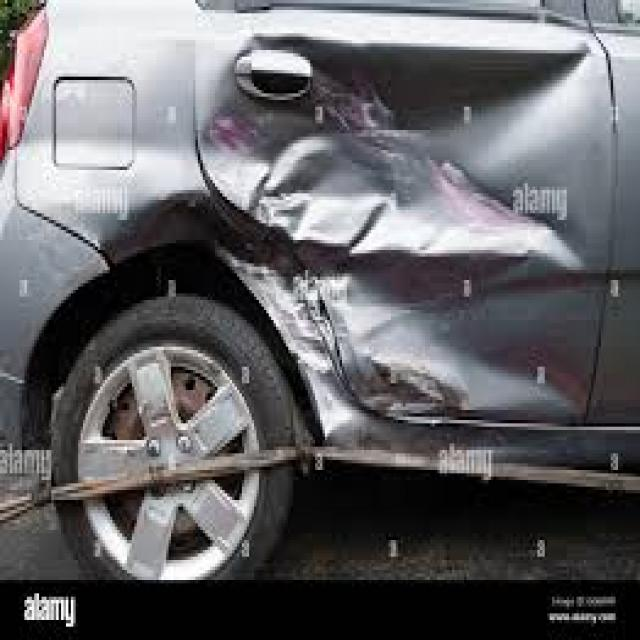moderate: (200, 14, 585, 472)
